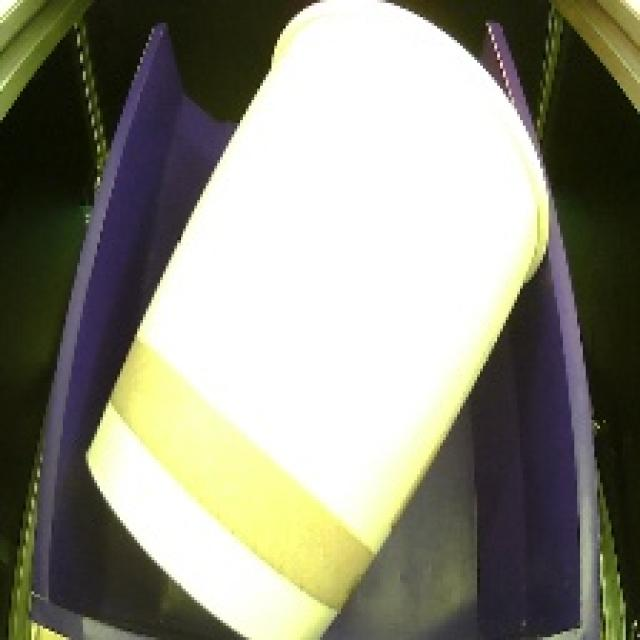cups: (64, 0, 571, 640)
